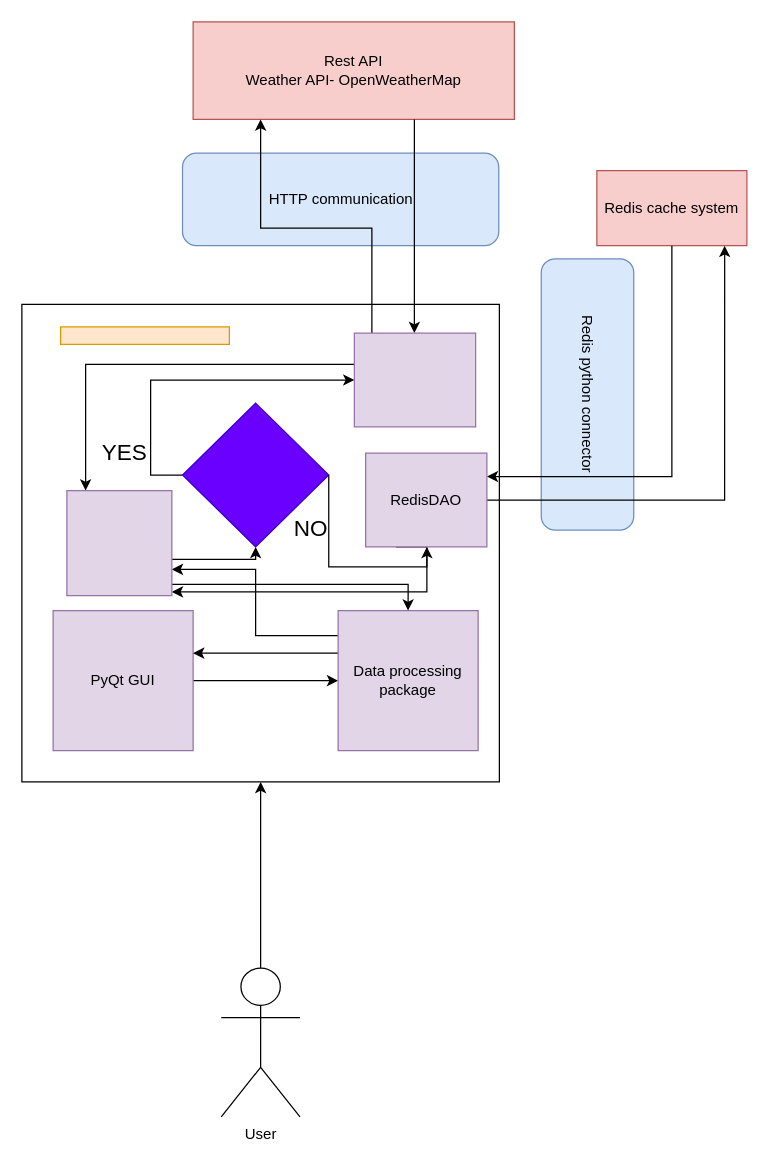
This 769x1165 diagram has some shape labels left out. The shapes that lost their labels are listed below. From the top down, each one's centre as x and y in pixels, then its label:
At pixel 144 335: "Desktop weather app".
At pixel 414 379: "HTTP client".
At pixel 255 474: "Old data?".
At pixel 119 542: "Data manager".
